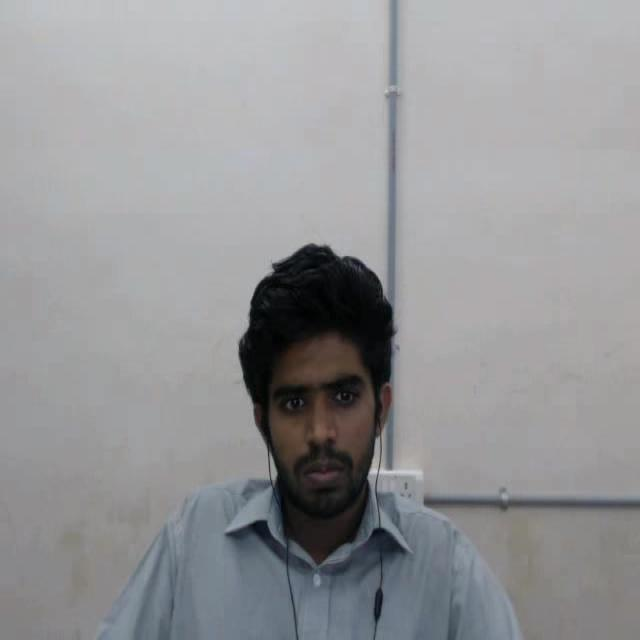Engaged: (212, 236, 426, 546)
